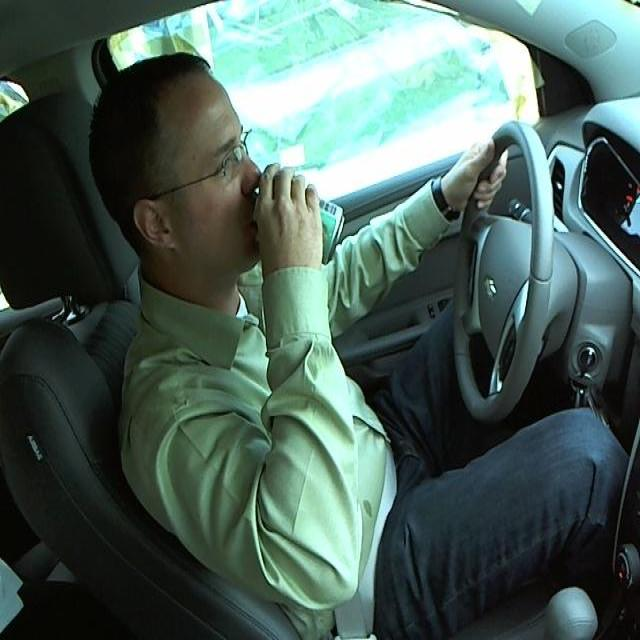Seatbelt: (261, 168, 342, 260)
